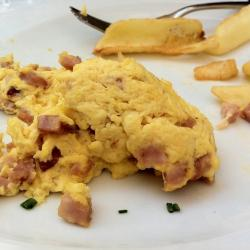omelette: (4, 57, 203, 189)
